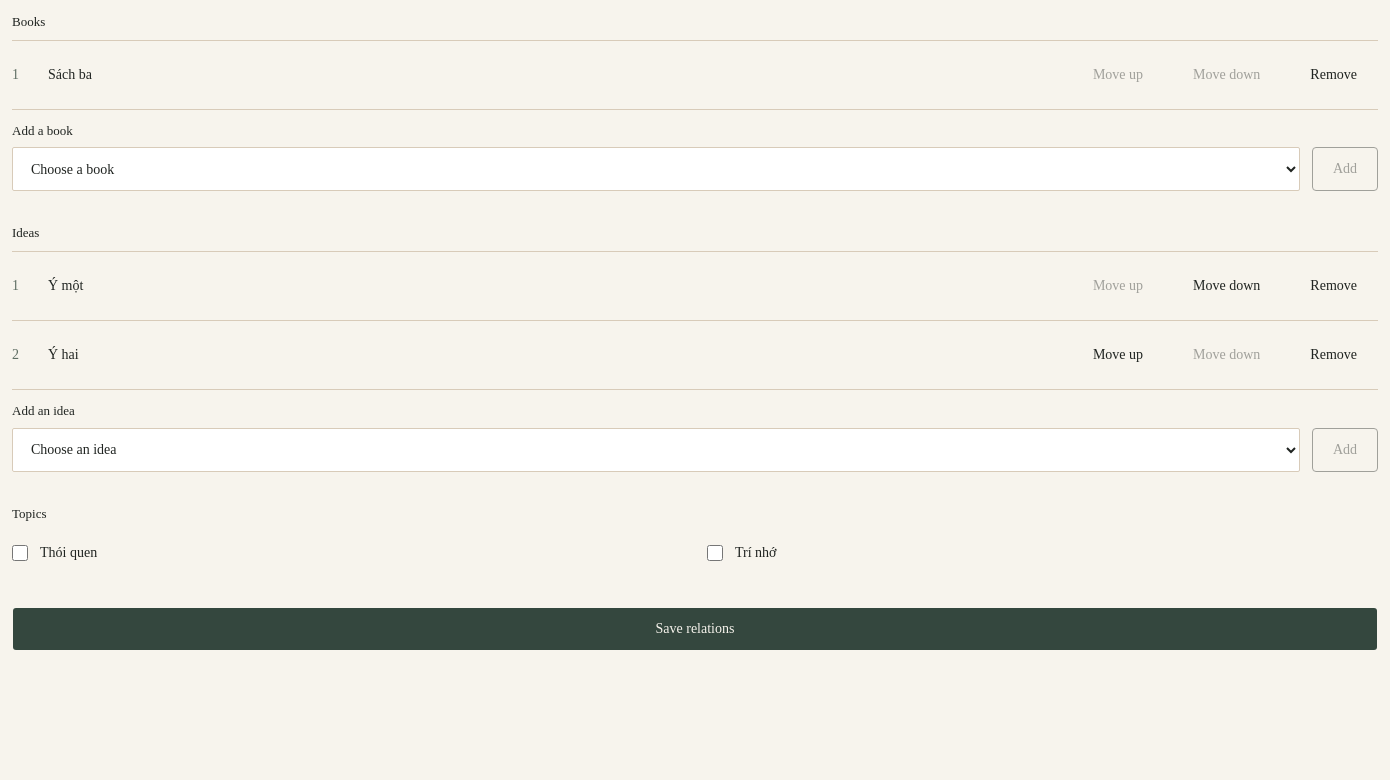
it: posts an article's ordered books and ideas under the article field names
Click the button with aria-label "Move Ý một down" at point(1227, 286), box [1172, 264, 1281, 308]
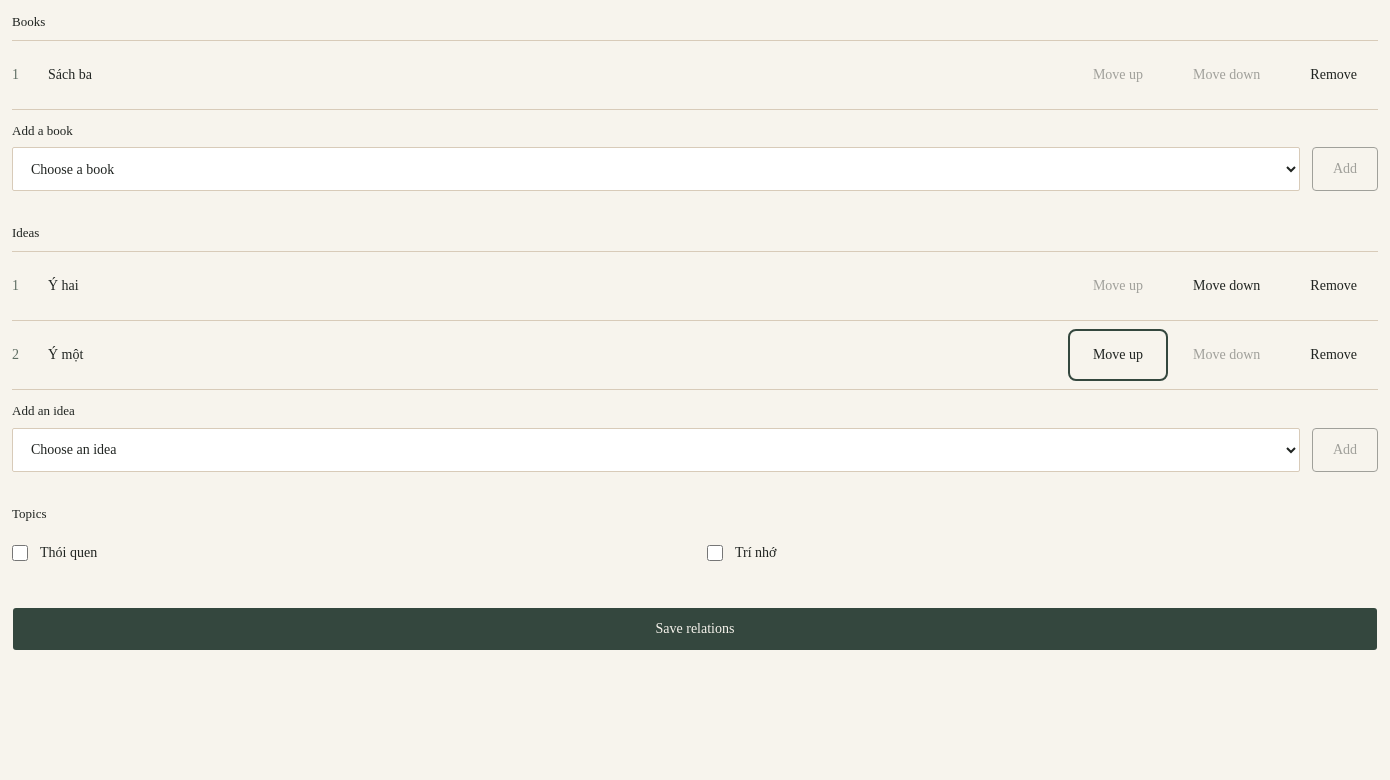
Click the button with aria-label "Remove Sách ba" at point(1334, 74), box [1289, 52, 1378, 96]
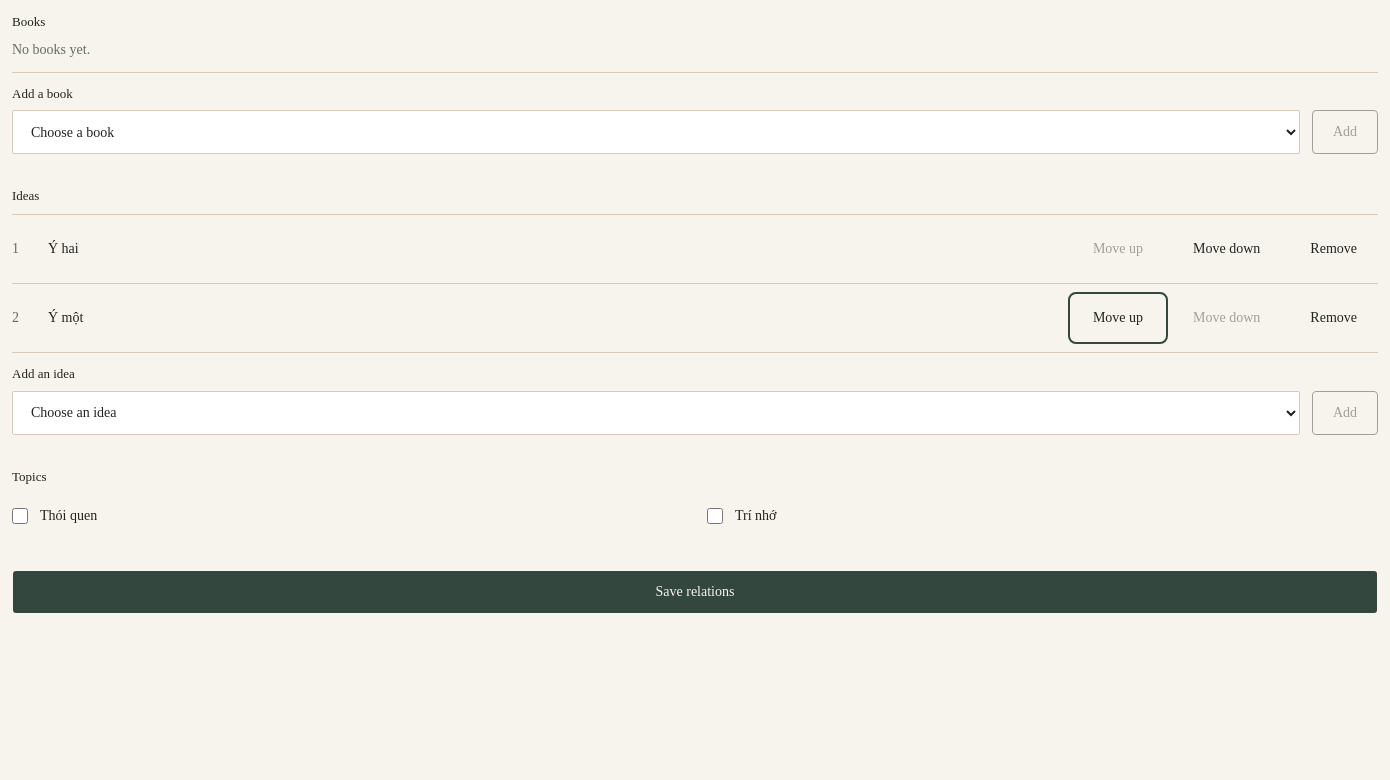
Check: the text "No books yet." is shown, box [12, 42, 90, 56]
